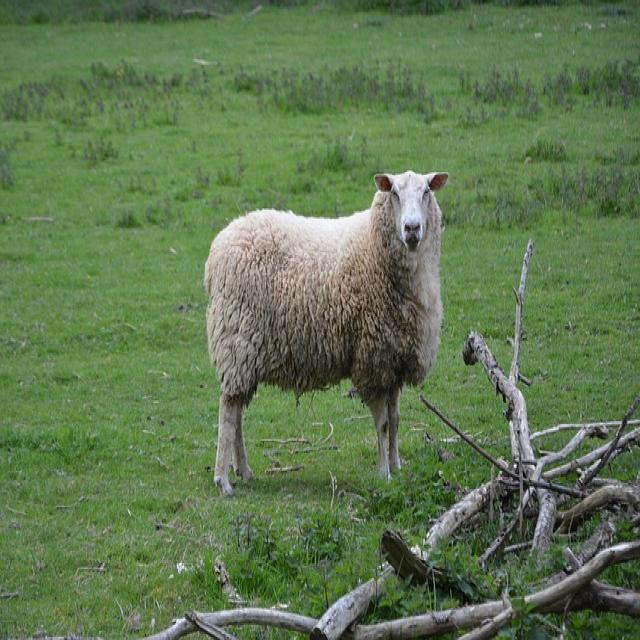sheep: (203, 168, 449, 498)
